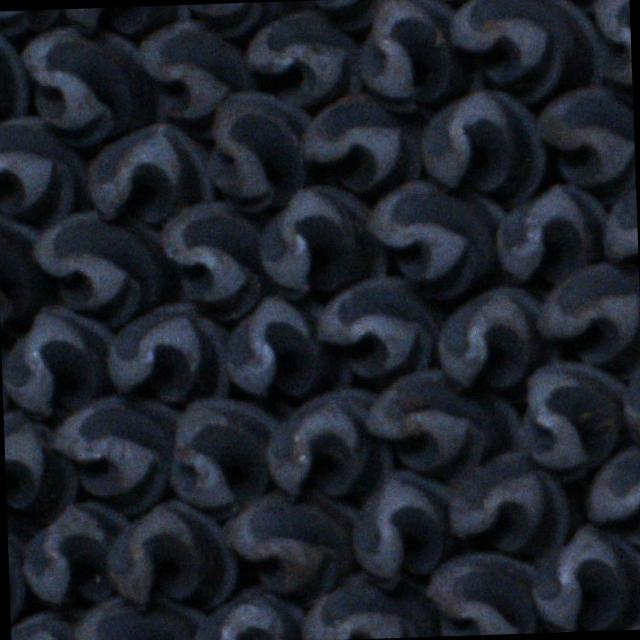tool_b: (18, 25, 160, 147), (364, 177, 506, 298), (364, 367, 520, 474), (28, 206, 174, 320), (52, 392, 186, 514), (450, 0, 603, 106), (218, 487, 362, 598), (257, 181, 391, 295), (102, 499, 237, 609), (164, 394, 284, 516), (266, 388, 396, 499), (418, 89, 548, 199), (353, 0, 480, 111), (222, 294, 352, 402), (315, 278, 447, 382), (1, 304, 120, 418), (516, 360, 628, 480), (84, 122, 214, 225), (444, 449, 570, 554), (106, 302, 233, 406), (205, 90, 315, 210), (296, 93, 422, 197), (156, 199, 265, 317), (525, 522, 640, 632), (434, 286, 552, 392), (134, 18, 255, 120), (20, 500, 134, 607), (535, 258, 640, 373), (349, 468, 453, 583), (240, 11, 362, 108), (534, 86, 636, 202), (491, 182, 608, 282), (297, 570, 442, 640), (426, 552, 540, 636), (0, 113, 88, 217), (3, 407, 76, 521), (187, 586, 304, 640), (69, 595, 208, 640), (0, 210, 48, 338), (582, 446, 640, 551), (180, 1, 306, 36), (59, 4, 190, 36), (590, 0, 631, 98), (600, 169, 638, 274), (0, 14, 30, 135), (296, 0, 405, 30), (6, 508, 30, 640), (618, 339, 640, 465), (10, 610, 81, 640), (0, 9, 64, 35)
